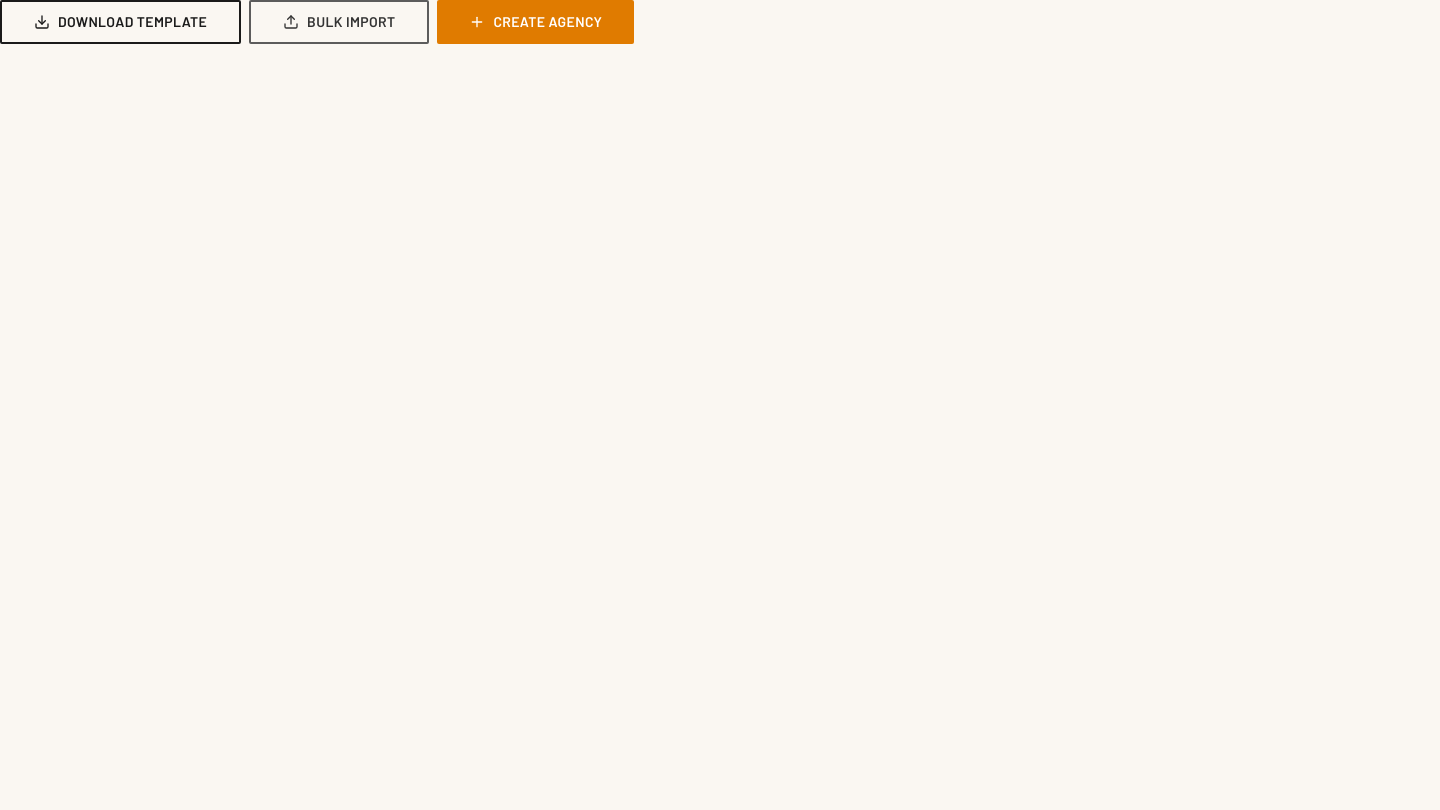
Scenario: AdminAgenciesActions › closes AgencyFormModal when cancel is clicked
Click the button with test id "create-agency-button" at [536, 22], box [437,0,634,44]
(page scrolled)
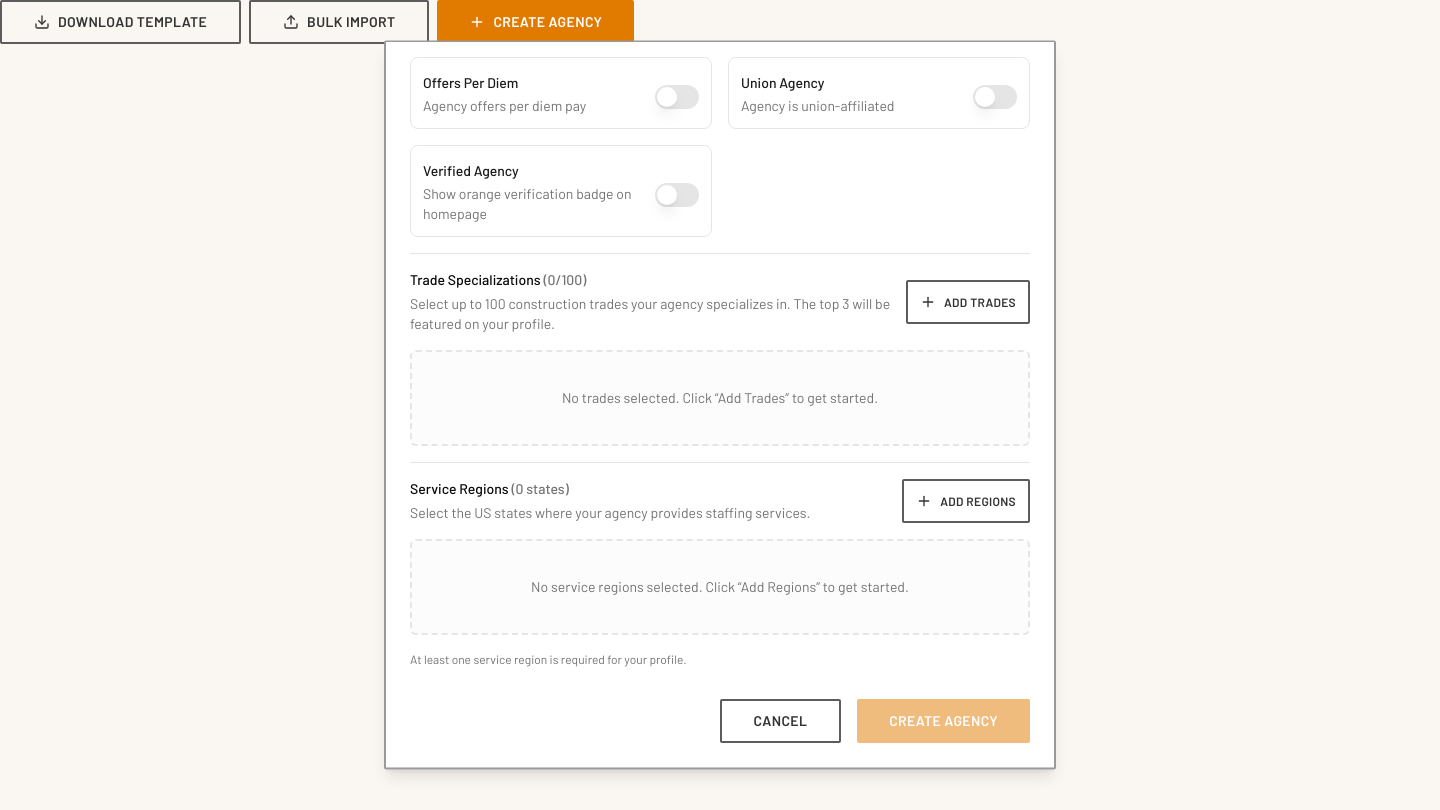
Now the dialog with test id "agency-form-modal" is shown, box [384,40,1056,770]
Click the button with test id "agency-form-cancel-button" at [780, 722], box [720,700,841,744]
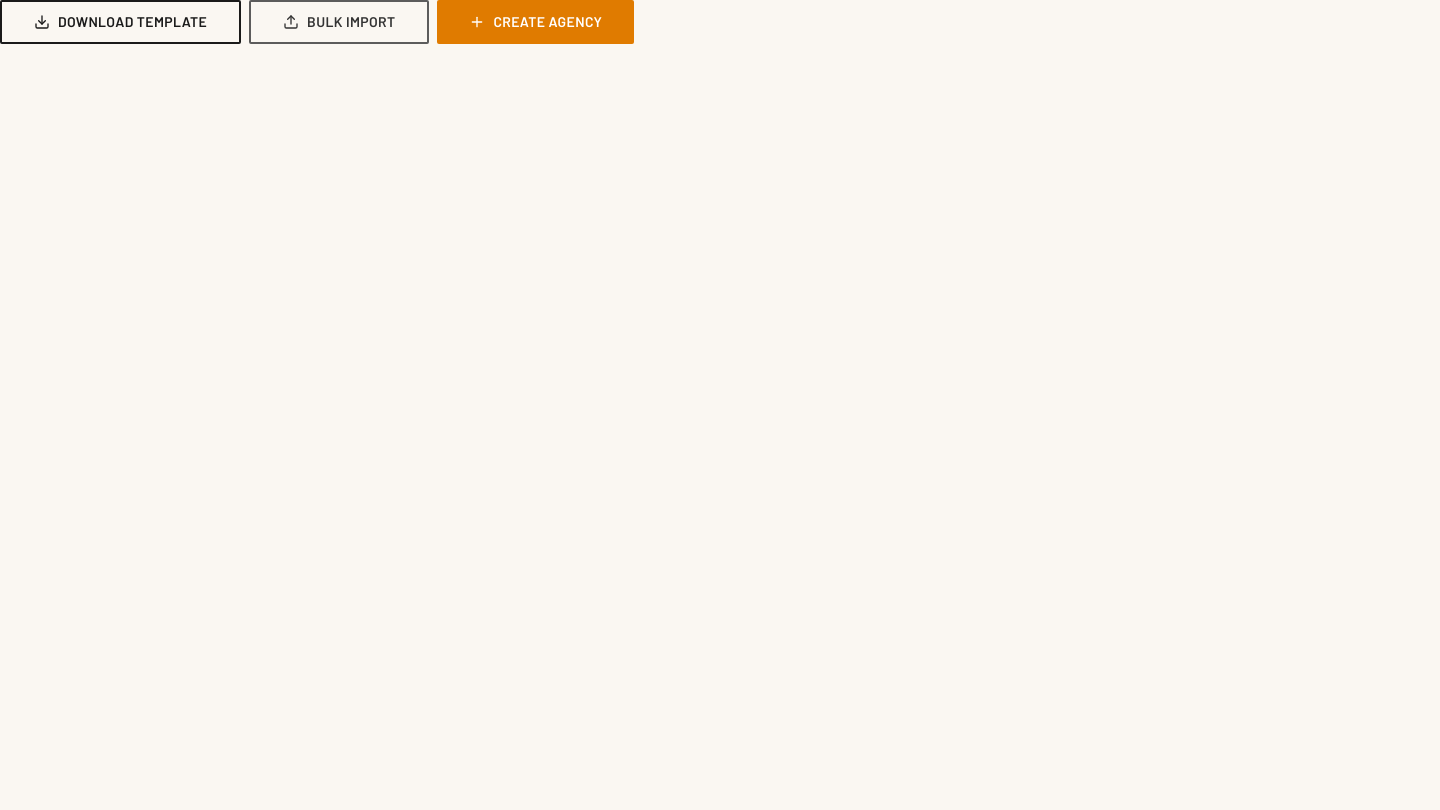
Now the dialog with test id "agency-form-modal" is gone
